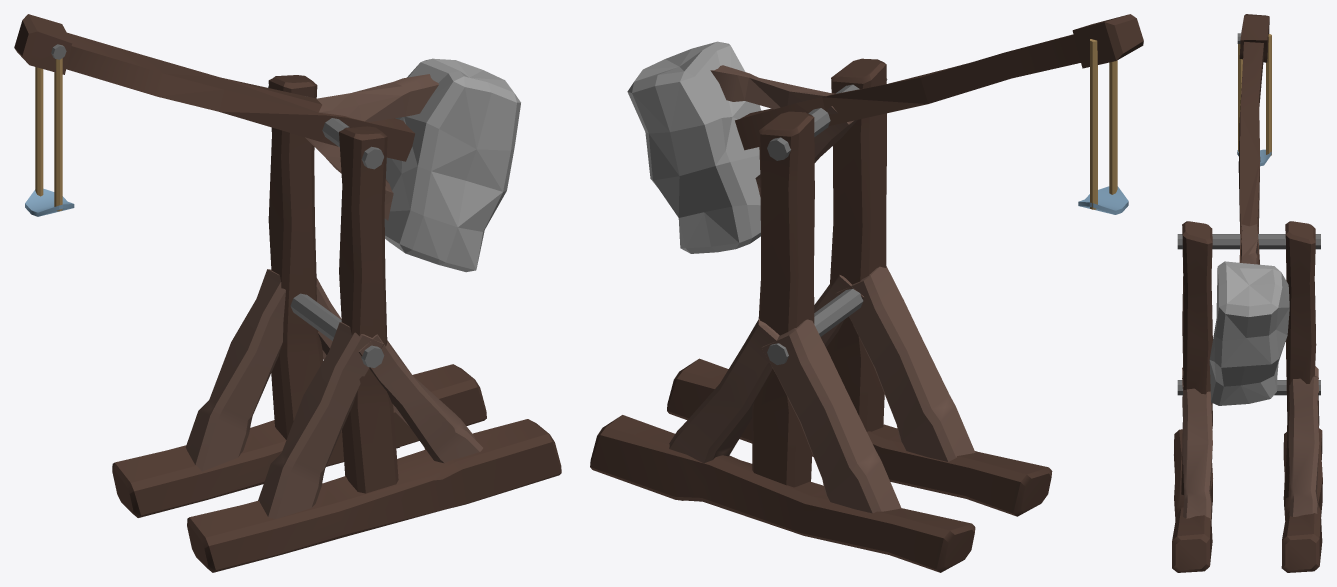
File: Trebuchet.fbx
3 renders of one model, left to right at view 1: azimuth 30°, elevation 25°; view 2: azimuth 150°, elevation 25°; view 3: azimuth 270°, elevation 25°, orthographic. The views are drawn at different scales.
Visible parts, largest first — view 1: Trebuchet1; view 2: Trebuchet1; view 3: Trebuchet1.
Part boxes in pixels (<box>): Trebuchet1: <box>14,14,561,572</box>; Trebuchet1: <box>590,14,1143,572</box>; Trebuchet1: <box>1172,14,1322,572</box>.
Size of the model in its own units: 291 by 307 by 105.
